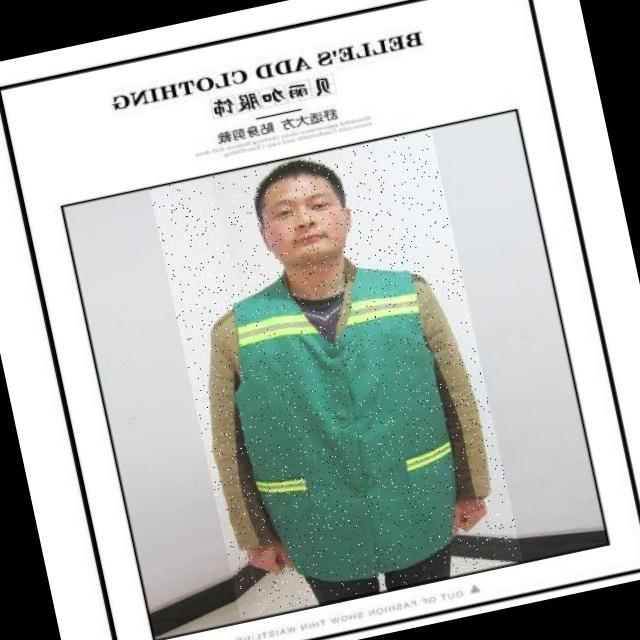Human: (149, 129, 522, 620)
Safety Vest: (208, 251, 477, 596)
